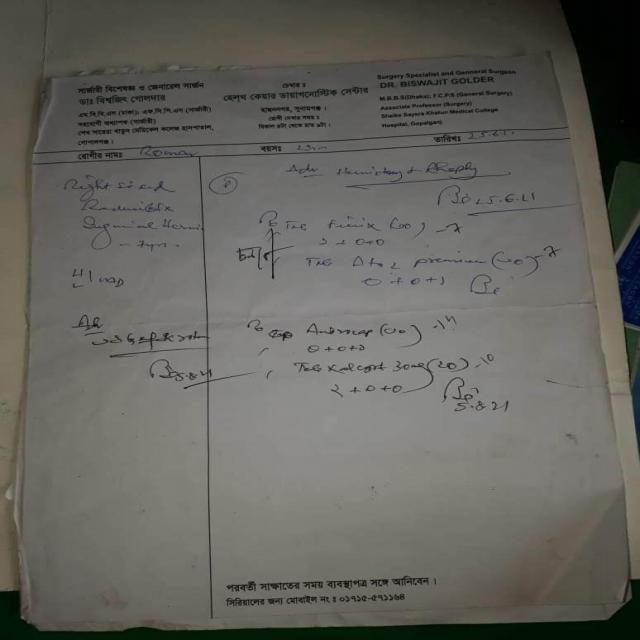A to Z: (348, 250, 406, 273)
Androcap: (304, 323, 375, 342)
Finix: (323, 214, 383, 234)
